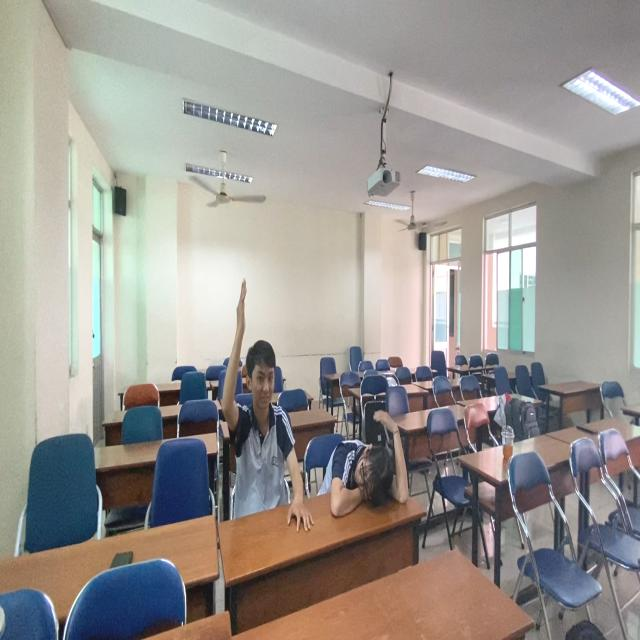raise_hand: (215, 271, 309, 522)
sleep: (330, 405, 415, 518)
